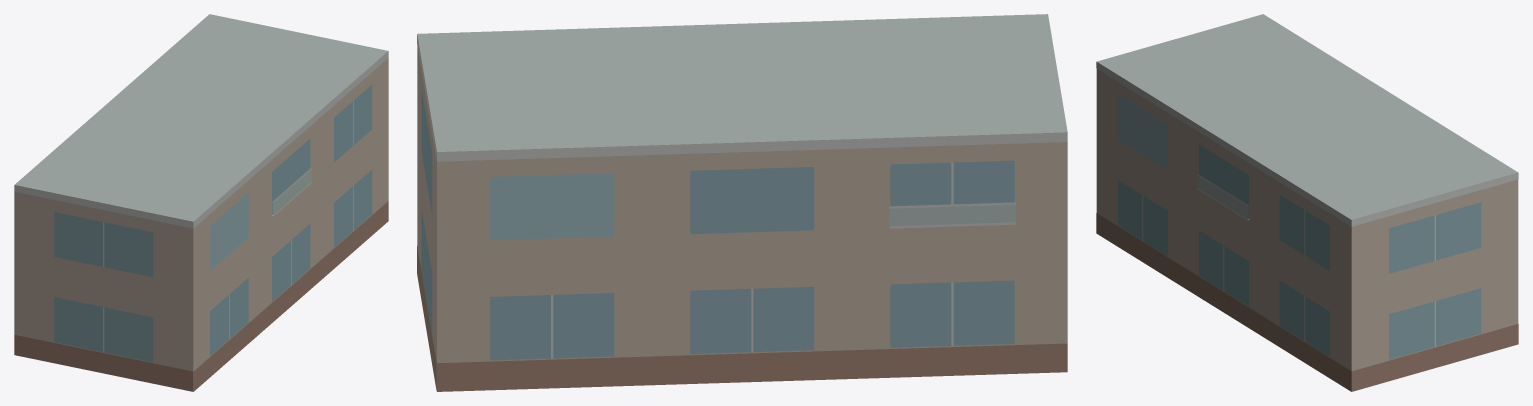
The model's file is survey-upis-32800438.glb.
The picture shows the model from 3 angles, left to right: view 1: azimuth 30°, elevation 25°; view 2: azimuth 150°, elevation 25°; view 3: azimuth 270°, elevation 25°; orthographic projection. The views are drawn at different scales.
Visible parts, largest first — view 1: survey-upis-32800438.tmp; view 2: survey-upis-32800438.tmp; view 3: survey-upis-32800438.tmp.
Part boxes in pixels (x1,y1,x2,y2): survey-upis-32800438.tmp: (14,14,388,391); survey-upis-32800438.tmp: (417,14,1067,391); survey-upis-32800438.tmp: (1096,14,1518,391).
Bounding box in the file's own units: 15.69 × 6.1 × 13.58.
